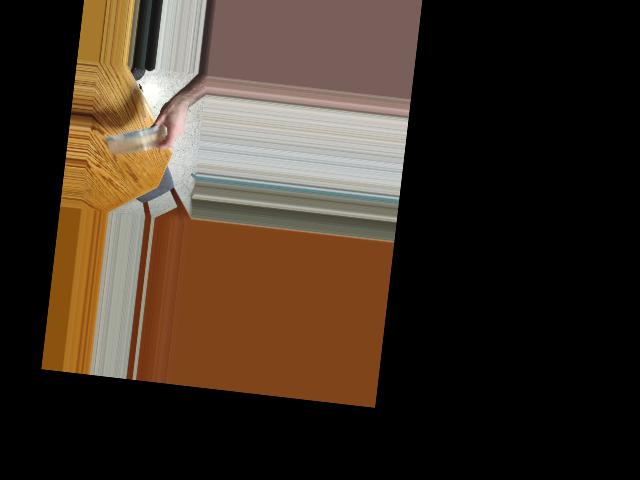cheese: (103, 125, 173, 157)
